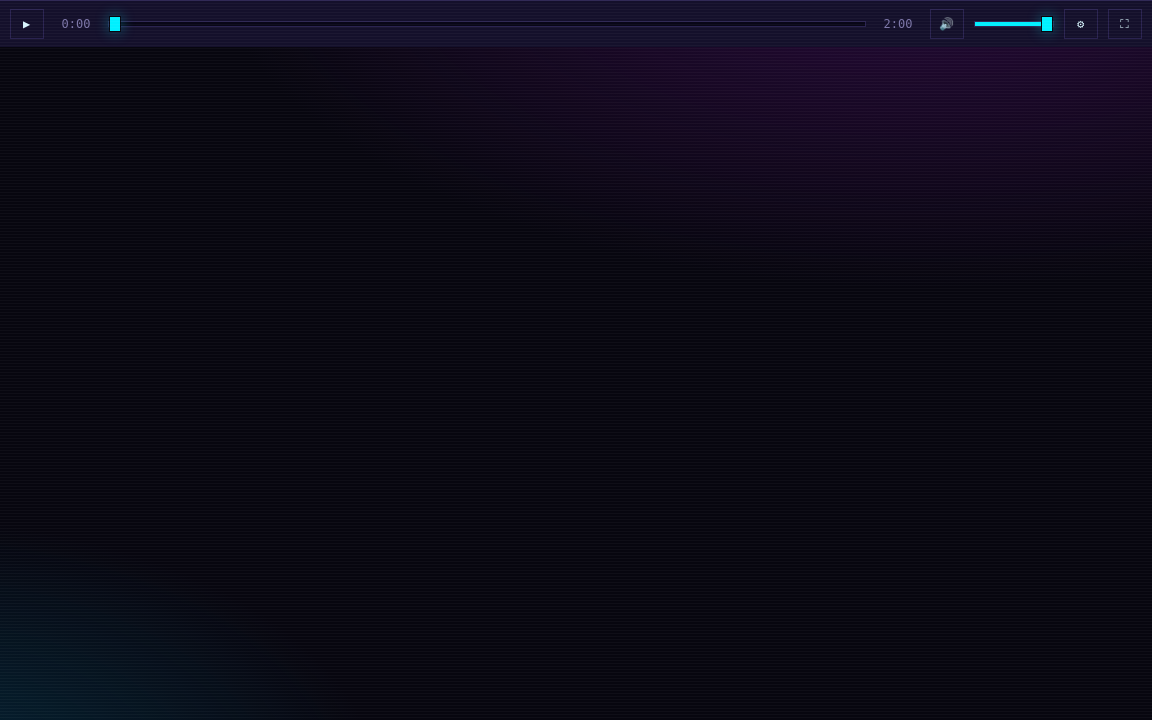
Test case: VideoControls › changes the volume and mutes at zero
Set the slider named "Volume" to "0.5" at (1014, 24), box [974,21,1054,27]
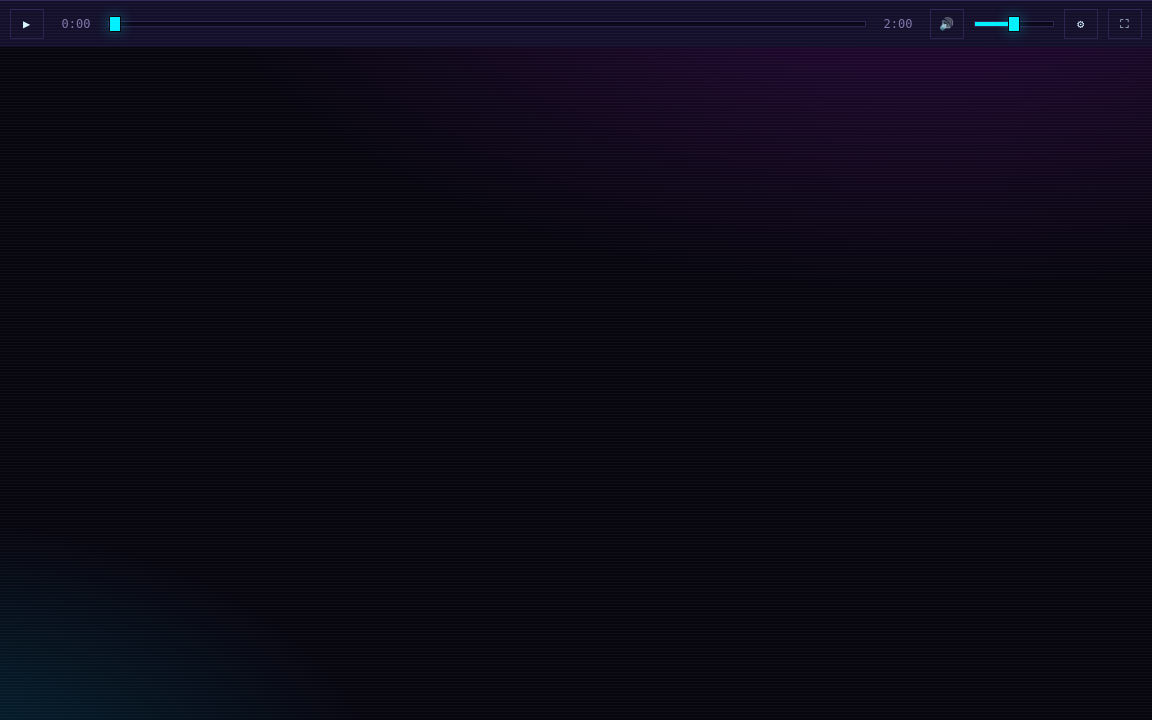
Set the slider named "Volume" to "0" at (982, 24), box [974,21,1054,27]
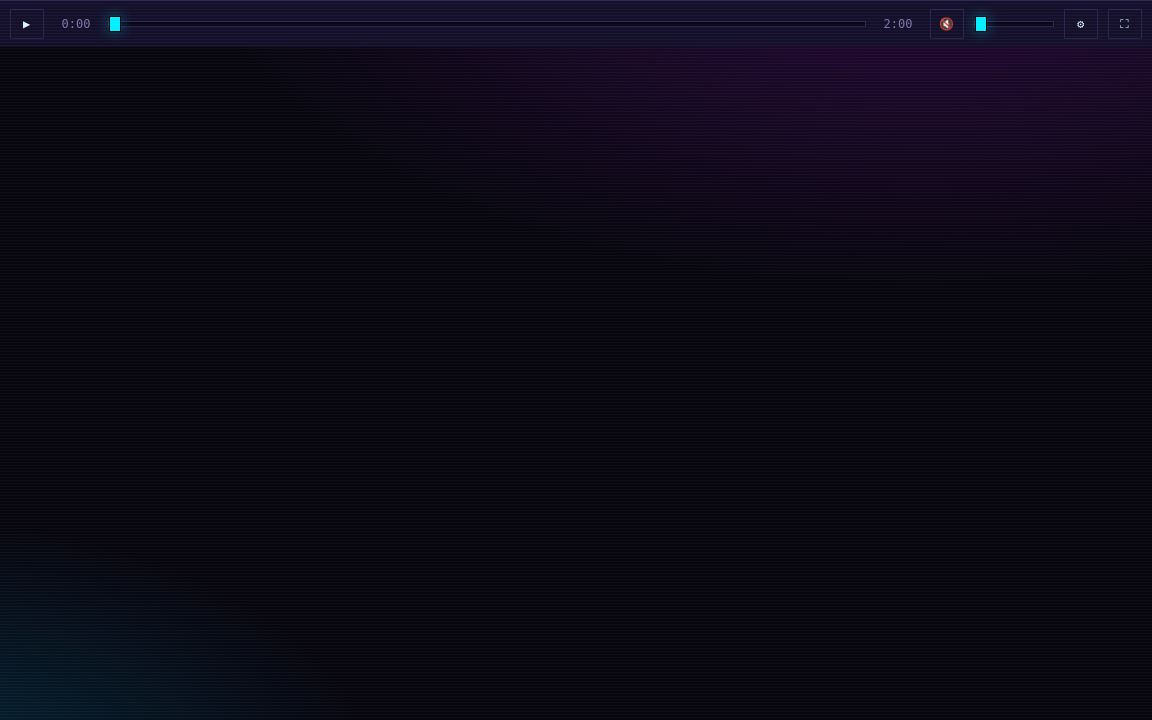
Now the button named "Unmute" is shown, box [930,9,964,39]
